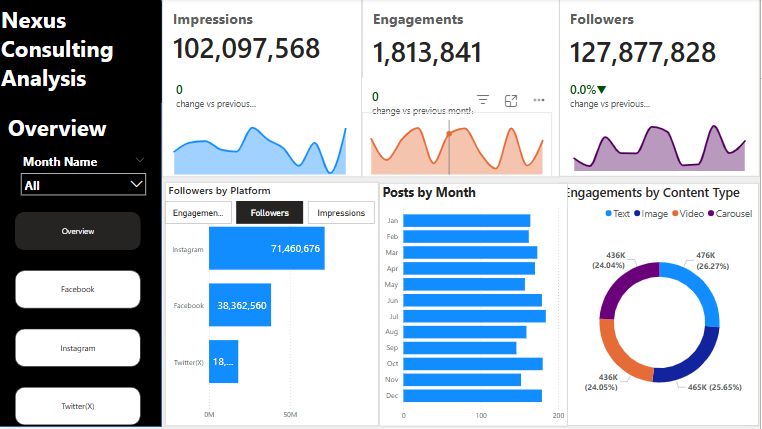

Layout of this report page (visuals, bound fields, positions):
{"tool":"powerbi","page":{"name":"Overview","canvas":[1280,720],"ordinal":0},"visuals":[{"type":"cardVisual","fields":{"Data":["_Measures.Impressions"]},"box":[275.5,0,336,300.7],"z":0},{"type":"cardVisual","fields":{"Data":["_Measures.Followers"]},"box":[943,0,337,300],"z":1000},{"type":"areaChart","fields":{"Category":["DateTable.Month Name"],"Y":["_Measures.Followers"]},"box":[952.4,184.8,317.5,110.9],"z":2000},{"type":"clusteredBarChart","fields":{"Y":["_Measures.Followers"],"Category":["SMData.Platform"]},"box":[280.5,309.1,359.5,409.9],"z":3000},{"type":"donutChart","title":"Engagements by Content Type","fields":{"Category":["SMData.Content_Type"],"Y":["_Measures.Engagements"]},"box":[944,310.8,334.3,408.2],"z":4000},{"type":"shape","box":[0,0,274.8,720],"z":5000},{"type":"cardVisual","fields":{"Data":["_Measures.ImpressionsMoM"]},"box":[282.2,122.6,199.9,80.6],"z":6000},{"type":"cardVisual","fields":{"Data":["_Measures.FollowersMoM"]},"box":[943.3,122,199.8,80.8],"z":7000},{"type":"slicer","fields":{"Values":["DateTable.Month Name"]},"box":[28.6,255.3,230.1,80.6],"z":8000},{"type":"areaChart","fields":{"Category":["DateTable.Month Name"],"Y":["_Measures.Impressions"]},"box":[280,191.7,319,110],"z":9000},{"type":"advancedSlicerVisual","fields":{"Values":["Parameter.Parameter"]},"box":[275.5,336,364.5,48.7],"z":10000},{"type":"cardVisual","fields":{"Data":["_Measures.Engagements"]},"box":[611.3,0,332.1,301.2],"z":11000},{"type":"cardVisual","fields":{"Data":["_Measures.EngagementMoM"]},"box":[611.3,135.2,230.7,80.8],"z":12000},{"type":"areaChart","fields":{"Category":["DateTable.Month Name"],"Y":["_Measures.Engagements"]},"box":[611.3,191,318.9,110.2],"z":13000},{"type":"pageNavigator","box":[28.6,359.5,211.7,359.5],"z":14000},{"type":"textbox","box":[0,5,275.5,171.3],"z":15000},{"type":"textbox","box":[11.8,186.6,217.5,69.1],"z":16000},{"type":"clusteredBarChart","title":"Posts by Month ","fields":{"Category":["colum .Month Name"],"Y":["_Measures.Posts"]},"box":[640,310.8,317,409],"z":17000}]}

Visuals, with their boxes in screenshot pixels (x1, y1, x2, y2), scaled from the page's 1280x720 canvas onto the 762x429 screenshot:
cardVisual - _Measures.Impressions: <box>164,0,364,179</box>
cardVisual - _Measures.Followers: <box>561,0,761,179</box>
areaChart - DateTable.Month Name x _Measures.Followers: <box>567,110,756,176</box>
clusteredBarChart - _Measures.Followers x SMData.Platform: <box>167,184,381,428</box>
"Engagements by Content Type" donutChart: <box>562,185,761,428</box>
shape: <box>0,0,164,428</box>
cardVisual - _Measures.ImpressionsMoM: <box>168,73,287,121</box>
cardVisual - _Measures.FollowersMoM: <box>562,73,681,121</box>
slicer - DateTable.Month Name: <box>17,152,154,200</box>
areaChart - DateTable.Month Name x _Measures.Impressions: <box>167,114,357,180</box>
advancedSlicerVisual - Parameter.Parameter: <box>164,200,381,229</box>
cardVisual - _Measures.Engagements: <box>364,0,562,179</box>
cardVisual - _Measures.EngagementMoM: <box>364,81,501,129</box>
areaChart - DateTable.Month Name x _Measures.Engagements: <box>364,114,554,179</box>
pageNavigator: <box>17,214,143,428</box>
textbox: <box>0,3,164,105</box>
textbox: <box>7,111,137,152</box>
"Posts by Month " clusteredBarChart: <box>381,185,570,428</box>
